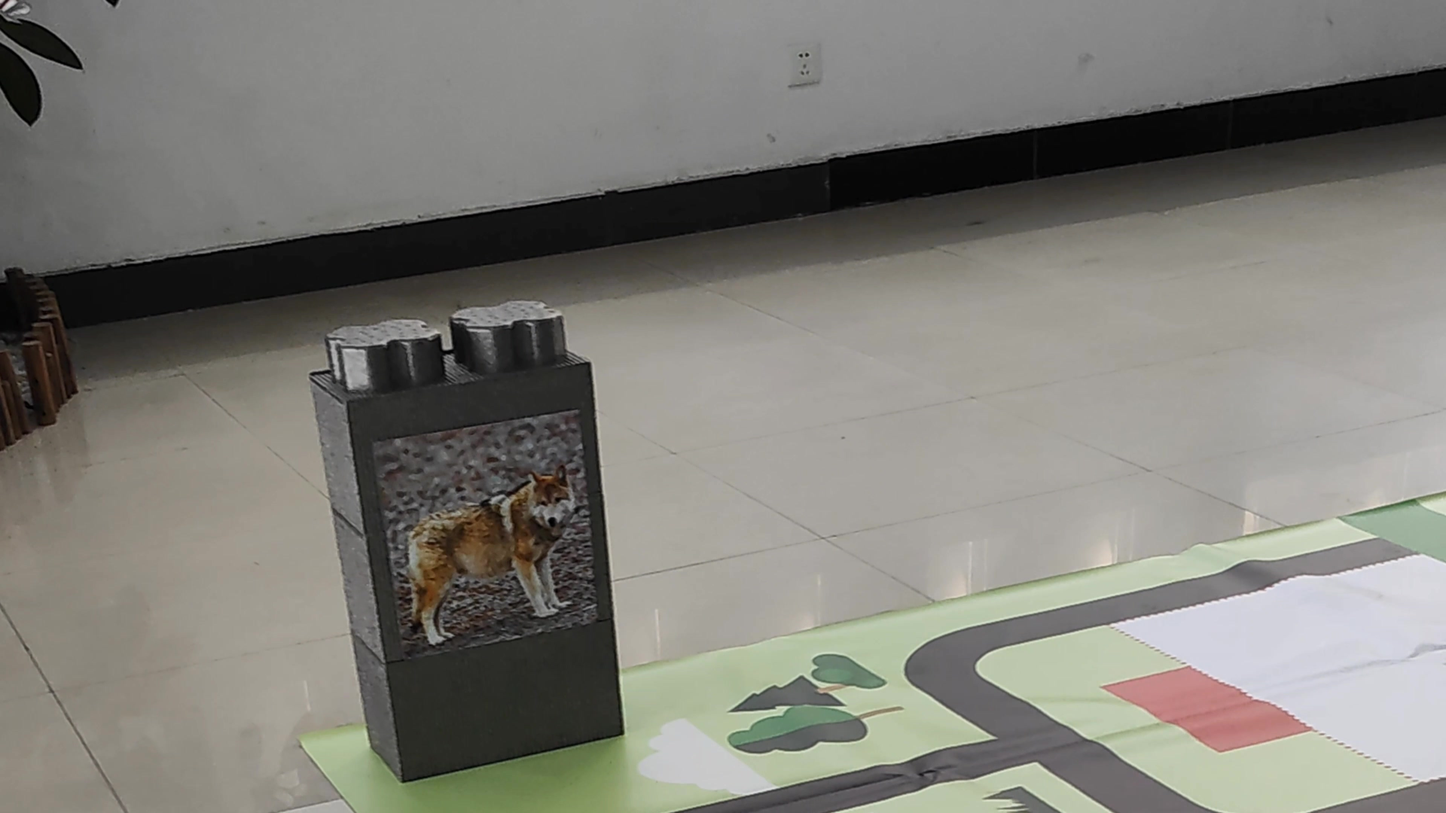wolf: (373, 435, 601, 628)
